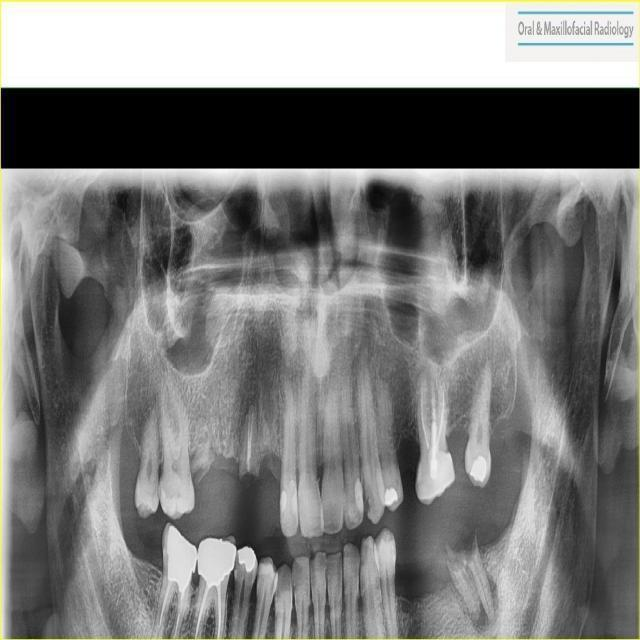Caries: (363, 479, 373, 515), (151, 476, 158, 496), (234, 555, 239, 575)
Crown: (198, 537, 237, 579)
Filling: (167, 525, 196, 593), (237, 546, 256, 573), (470, 457, 487, 483), (355, 478, 364, 517), (279, 491, 287, 521), (385, 489, 398, 507), (291, 494, 298, 519)
Missing teeth: (394, 526, 453, 602), (394, 434, 422, 506), (210, 455, 239, 509), (446, 426, 469, 482)
Periapical lesion: (468, 575, 502, 631)
Root Canal Treatment: (196, 582, 210, 631), (159, 578, 172, 629), (420, 387, 430, 451), (437, 386, 446, 446), (176, 592, 185, 632), (215, 584, 222, 632), (431, 385, 435, 420)
Root Piece: (439, 541, 481, 625), (461, 527, 495, 624), (190, 415, 216, 484), (239, 405, 260, 480), (258, 407, 276, 475)
